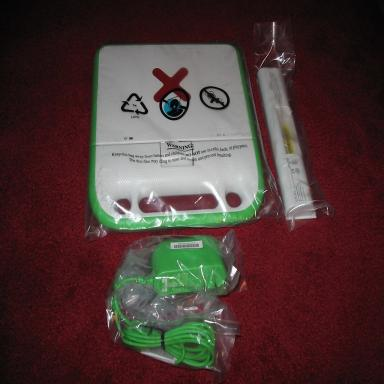plasticbag: (82, 39, 284, 246), (252, 18, 327, 231), (104, 288, 240, 374), (116, 227, 240, 293)
